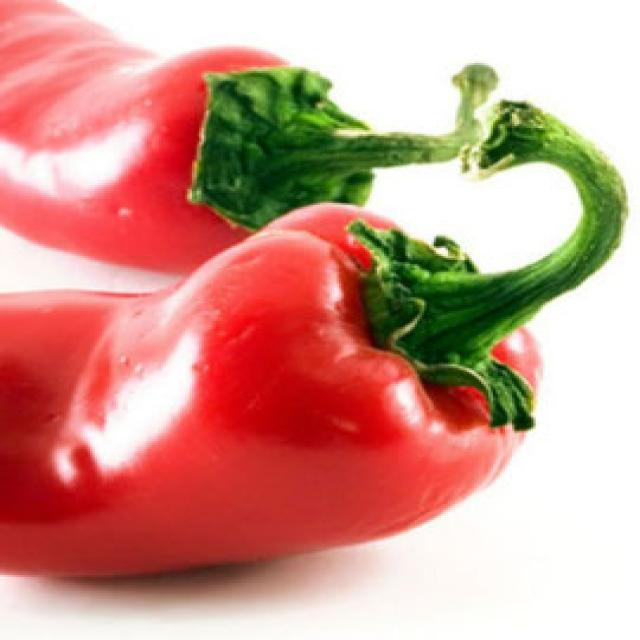Chilli Pepper: (0, 100, 621, 585), (0, 0, 498, 274)
